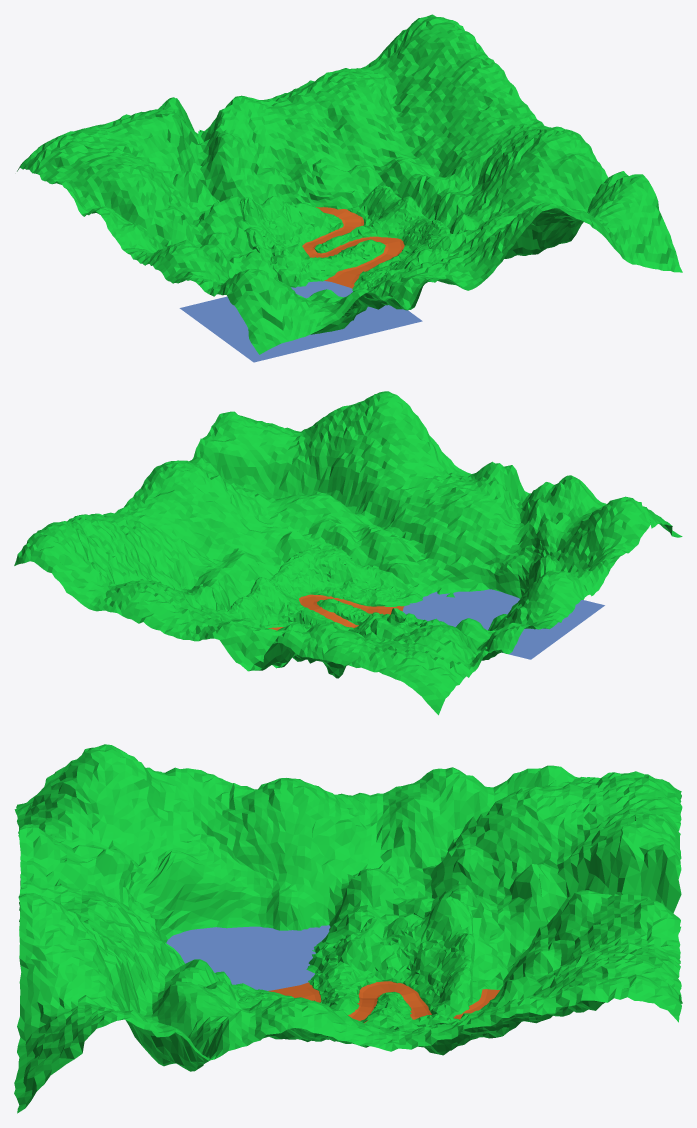
The model's file is newLevel01.fbx.
The picture shows the model from 3 angles, top to bottom: view 1: azimuth 30°, elevation 25°; view 2: azimuth 150°, elevation 25°; view 3: azimuth 270°, elevation 25°; orthographic projection. The views are drawn at different scales.
Visible parts, largest first — view 1: Plane.001, terrain, water, Plane; view 2: Plane.001, terrain, water, Plane; view 3: Plane.001, terrain, water, Plane.
Boxes of the visible parts, left/top/right/bottom form: Plane.001: left=17, top=14, right=682, bottom=354; terrain: left=238, top=185, right=451, bottom=291; water: left=179, top=281, right=422, bottom=362; Plane: left=302, top=207, right=404, bottom=288; Plane.001: left=14, top=391, right=682, bottom=715; terrain: left=227, top=541, right=427, bottom=632; water: left=402, top=589, right=604, bottom=659; Plane: left=268, top=594, right=404, bottom=630; Plane.001: left=14, top=744, right=682, bottom=1113; terrain: left=232, top=896, right=474, bottom=1026; water: left=166, top=925, right=330, bottom=990; Plane: left=268, top=981, right=499, bottom=1023.
Bounding box in the file's own units: 13241 × 3966 × 13253.
